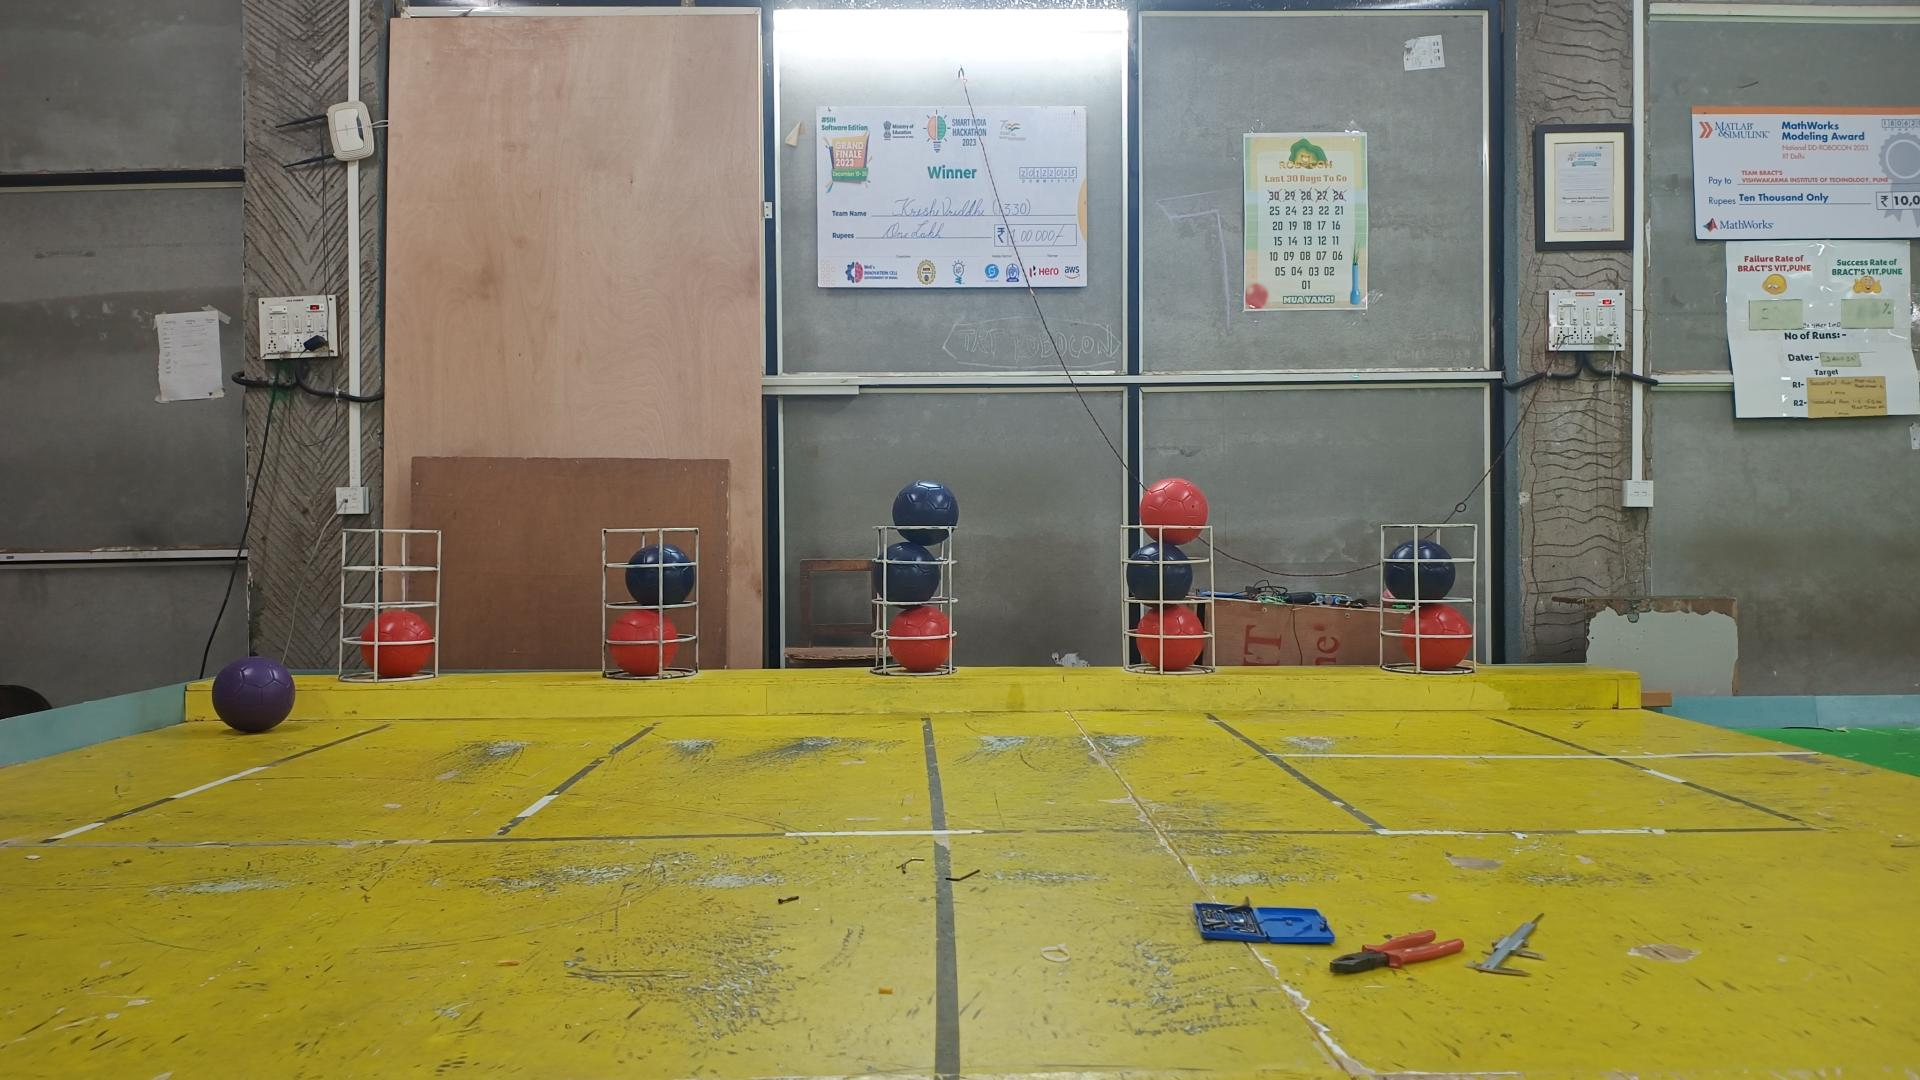dhoka: (626, 543, 698, 608), (893, 480, 960, 547), (874, 541, 942, 604), (1383, 541, 1455, 600), (1125, 543, 1192, 600)
laale: (360, 612, 435, 679), (608, 608, 679, 675), (1403, 604, 1474, 671), (1139, 476, 1208, 543), (889, 604, 952, 671), (1137, 608, 1204, 671)
